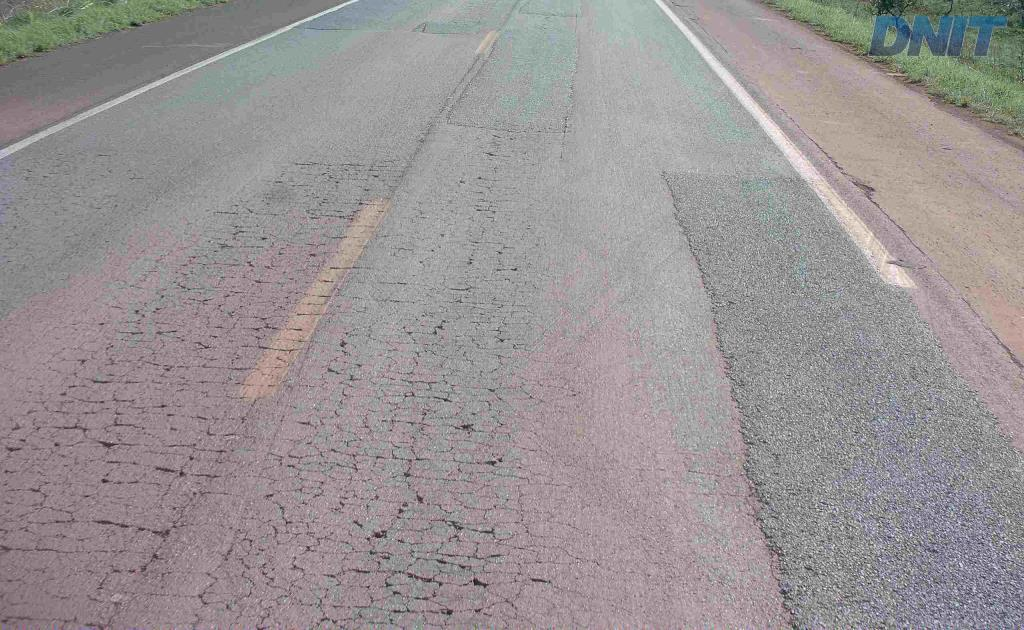crack: (371, 557, 454, 620)
